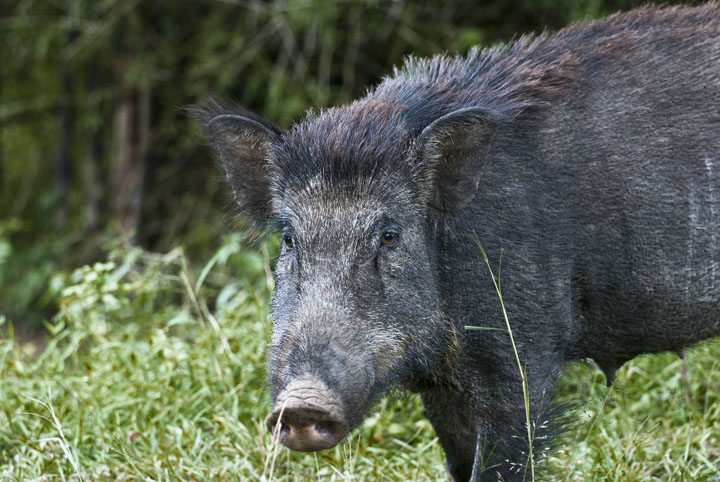wild boar: (185, 7, 720, 461)
